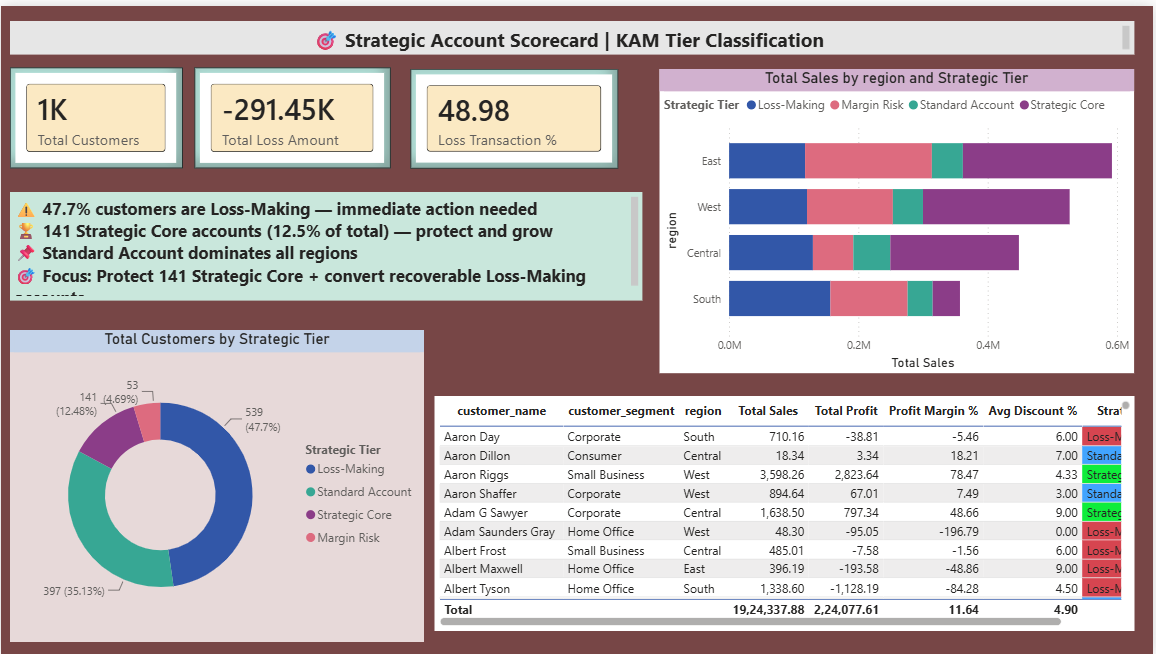

This screenshot's page, from the dashboard's own definition file:
{"tool":"powerbi","page":{"name":" Strategic Account Scorecard","canvas":[1280,720],"ordinal":5},"visuals":[{"type":"cardVisual","fields":{"Data":["_Measures.Total Customers"]},"box":[9.8,68.3,191.9,112.2],"z":0},{"type":"cardVisual","fields":{"Data":["_Measures.Total Loss Amount"]},"box":[214.7,68.3,218,112.2],"z":1000},{"type":"cardVisual","fields":{"Data":["_Measures.Loss Transaction %"]},"box":[455.4,69.9,231,110.6],"z":2000},{"type":"donutChart","fields":{"Category":["SuperStoreUs_data.Strategic Tier"],"Y":["_Measures.Total Customers"]},"box":[9.8,359.5,460.3,346.5],"z":3000},{"type":"barChart","fields":{"Category":["SuperStoreUs_data.region"],"Y":["_Measures.Total Sales"],"Series":["SuperStoreUs_data.Strategic Tier"]},"box":[731.9,69.9,527,338.3],"z":4000},{"type":"tableEx","fields":{"Values":["SuperStoreUs_data.customer_name","SuperStoreUs_data.customer_segment","SuperStoreUs_data.region","_Measures.Total Sales","_Measures.Total Profit","_Measures.Profit Margin %","_Measures.Avg Discount %","SuperStoreUs_data.Strategic Tier"]},"box":[481.5,432.7,777.5,260.2],"z":5000},{"type":"textbox","box":[9.8,206.6,702.7,120.4],"z":6000},{"type":"textbox","box":[9.8,16.3,1249.2,37.4],"z":6001}]}

Visuals, with their boxes in screenshot pixels (x1, y1, x2, y2), scaled from the page's 1280x720 canvas onto the 1156x654 screenshot:
cardVisual - _Measures.Total Customers: (x1=9, y1=62, x2=182, y2=164)
cardVisual - _Measures.Total Loss Amount: (x1=194, y1=62, x2=391, y2=164)
cardVisual - _Measures.Loss Transaction %: (x1=411, y1=63, x2=620, y2=164)
donutChart - SuperStoreUs_data.Strategic Tier x _Measures.Total Customers: (x1=9, y1=327, x2=425, y2=641)
barChart - SuperStoreUs_data.region x _Measures.Total Sales: (x1=661, y1=63, x2=1137, y2=371)
tableEx - SuperStoreUs_data.customer_name x SuperStoreUs_data.customer_segment: (x1=435, y1=393, x2=1137, y2=629)
textbox: (x1=9, y1=188, x2=643, y2=297)
textbox: (x1=9, y1=15, x2=1137, y2=49)
